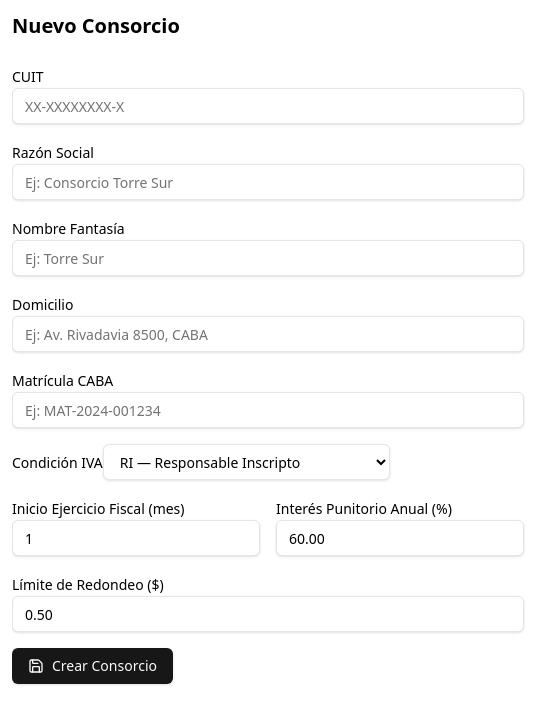
Test: ConsorcioForm › [@validation] shows error for invalid short CUIT
The width and height of the screenshot is (541, 724).
Type "Test" into the field labelled "Razón Social" at (268, 182), box [12,164,524,200]
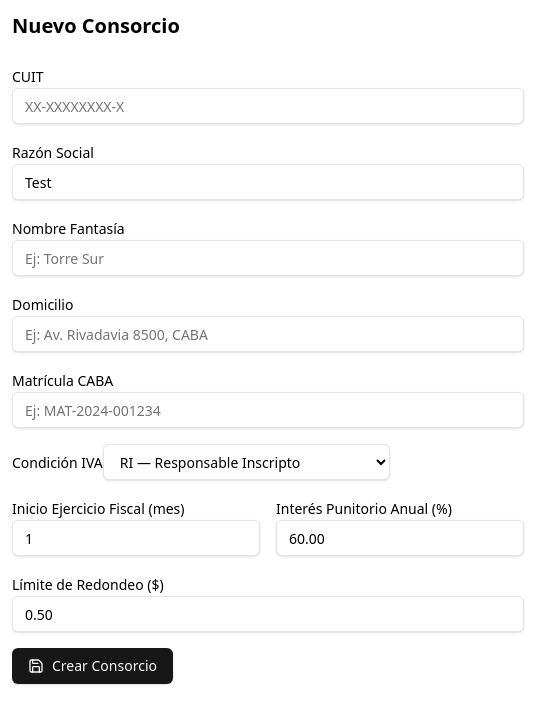
Click the button "Crear Consorcio" at (92, 666), box [12,648,173,684]
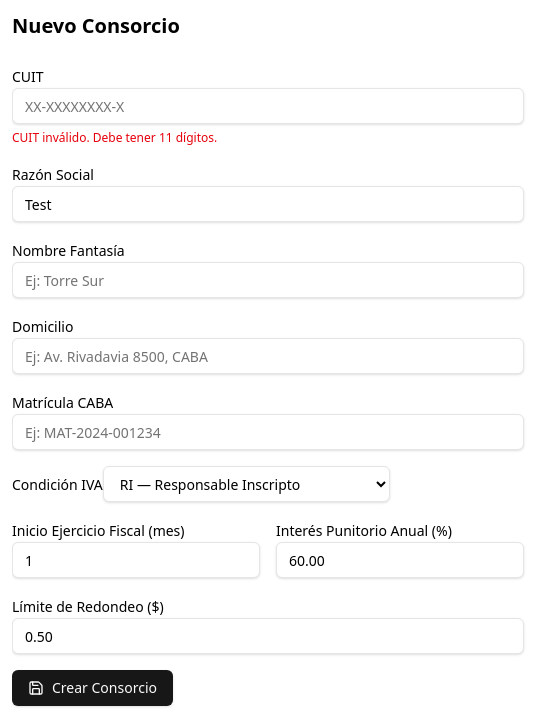
Expected: the text "CUIT inválido. Debe tener 11 dígitos." is shown, [12,129,217,146]
